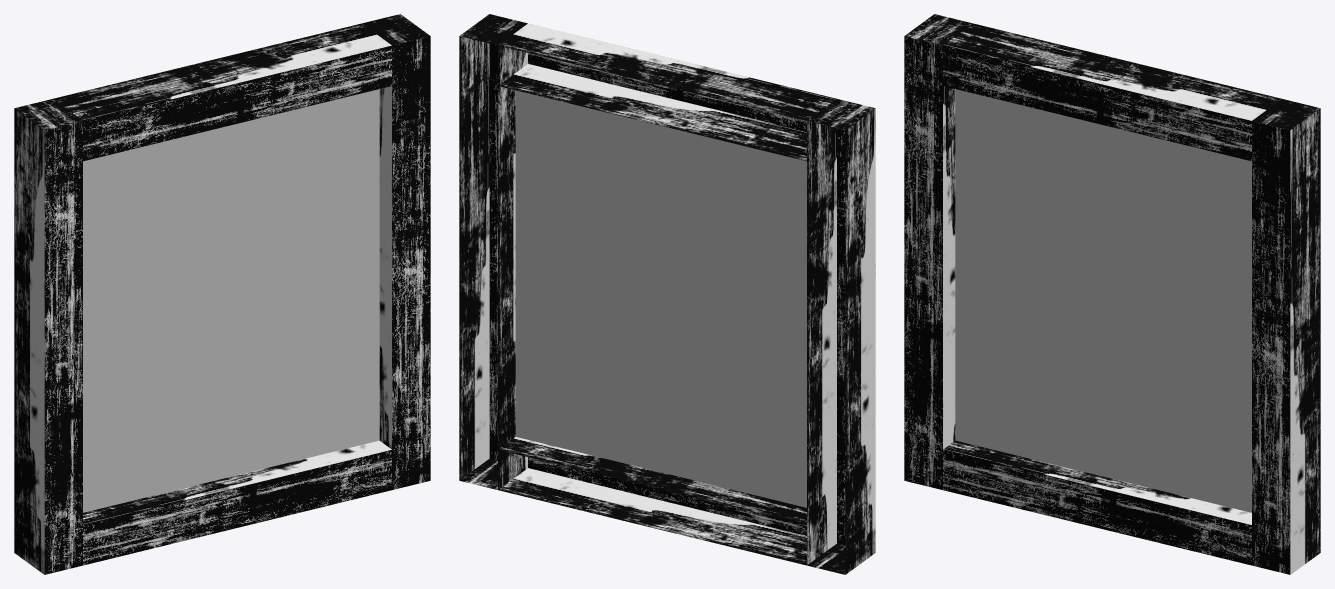
The model's file is SM_window_02.fbx.
3 views of the same model, side by side, from view 1: azimuth 30°, elevation 25°; view 2: azimuth 150°, elevation 25°; view 3: azimuth 330°, elevation 25° (orthographic).
Visible parts, largest first — view 1: SM_window_02_LOD0; view 2: SM_window_02_LOD0; view 3: SM_window_02_LOD0.
Part boxes in pixels (x1,y1,x2,y2): SM_window_02_LOD0: [14, 14, 430, 574]; SM_window_02_LOD0: [459, 14, 875, 574]; SM_window_02_LOD0: [904, 14, 1320, 574].
Bounding box in the file's own units: 100 × 13.57 × 110.
2 materials, 1 textured.
